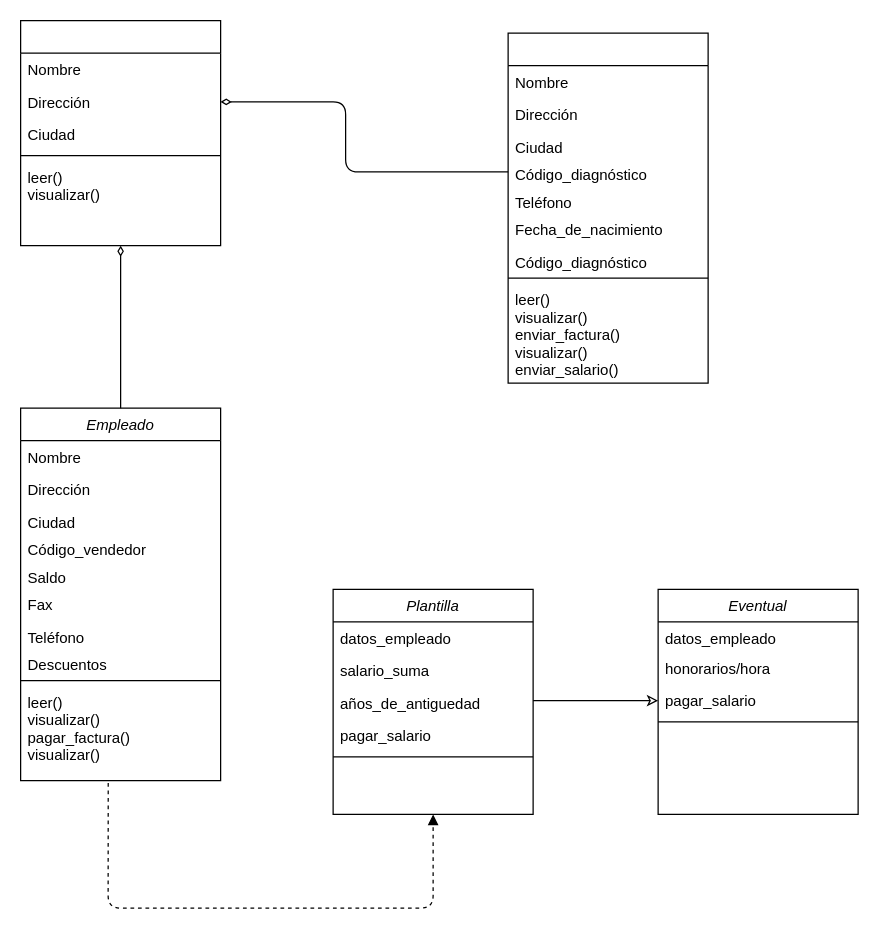
Some shapes in this 879 by 929 pixel diagram are drawn without their labels. Each missing label, with the box of its shape:
Paciente: (507, 32, 708, 383)
Persona: (19, 19, 221, 246)
